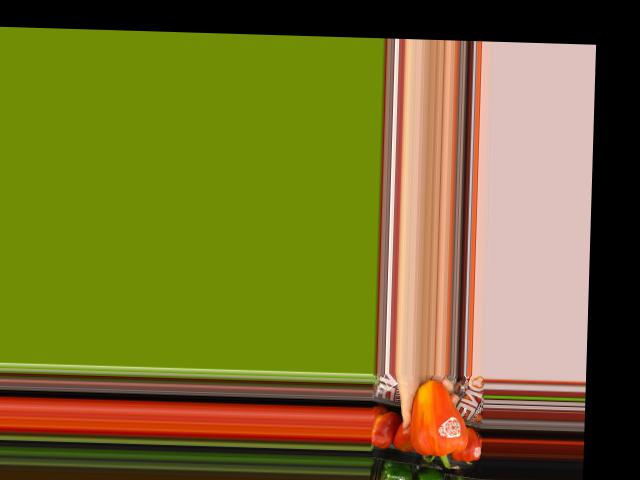bell_pepper: (402, 380, 471, 470)
